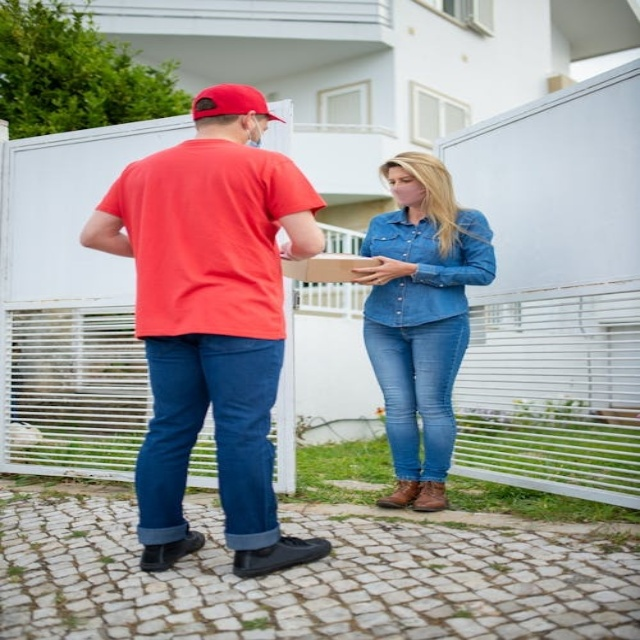Mascara: (388, 181, 425, 208), (244, 116, 265, 148)
Sin_gafas: (388, 169, 419, 183)
Sin_guantes: (347, 250, 415, 292)
